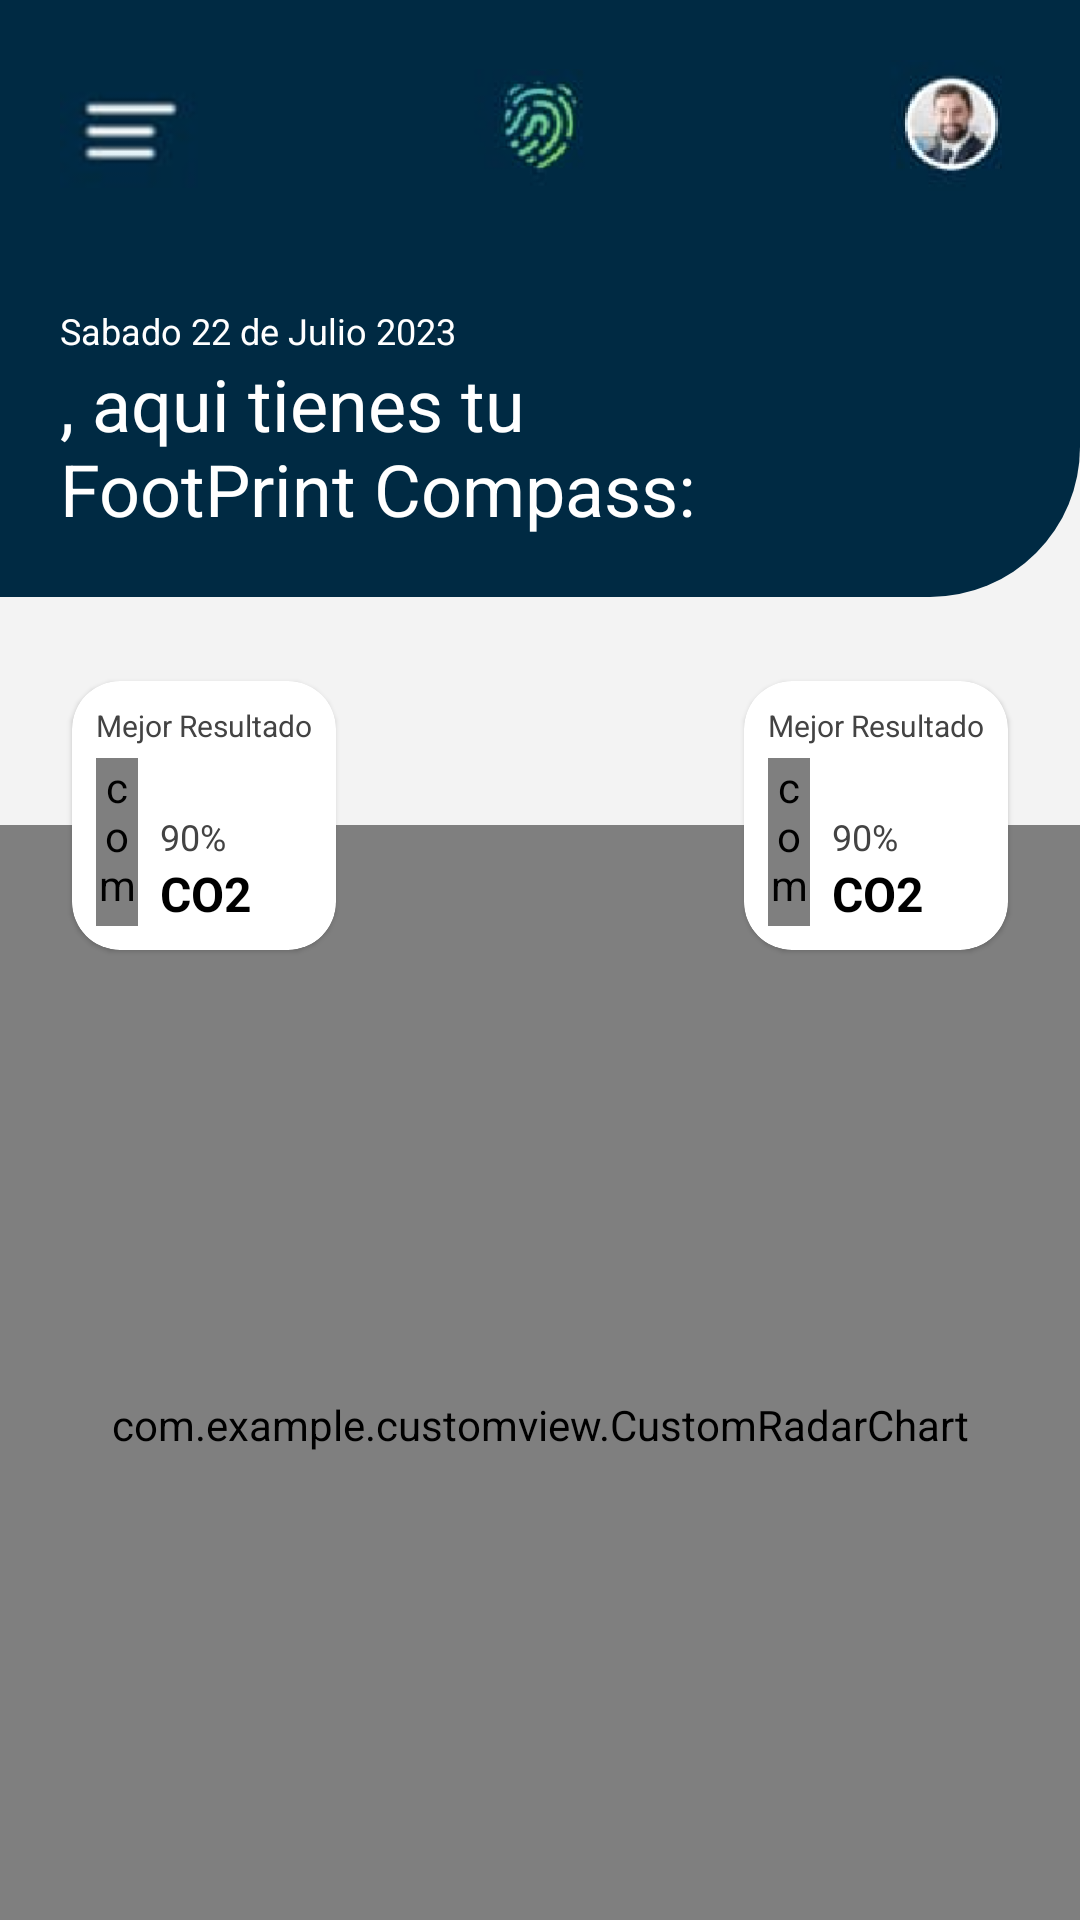

Named icons in this screenshot (1080 × 1920) and their centers, (x=x, y=y):
fingerprint: (x=540, y=125)
